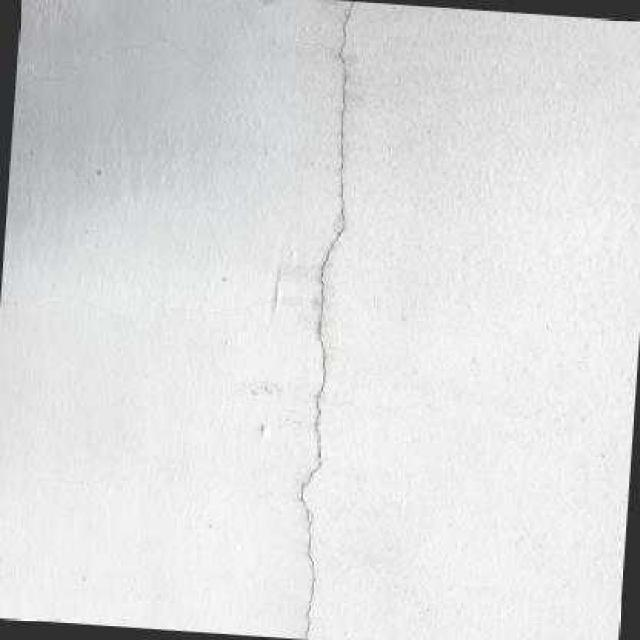D00: (300, 1, 356, 637)
